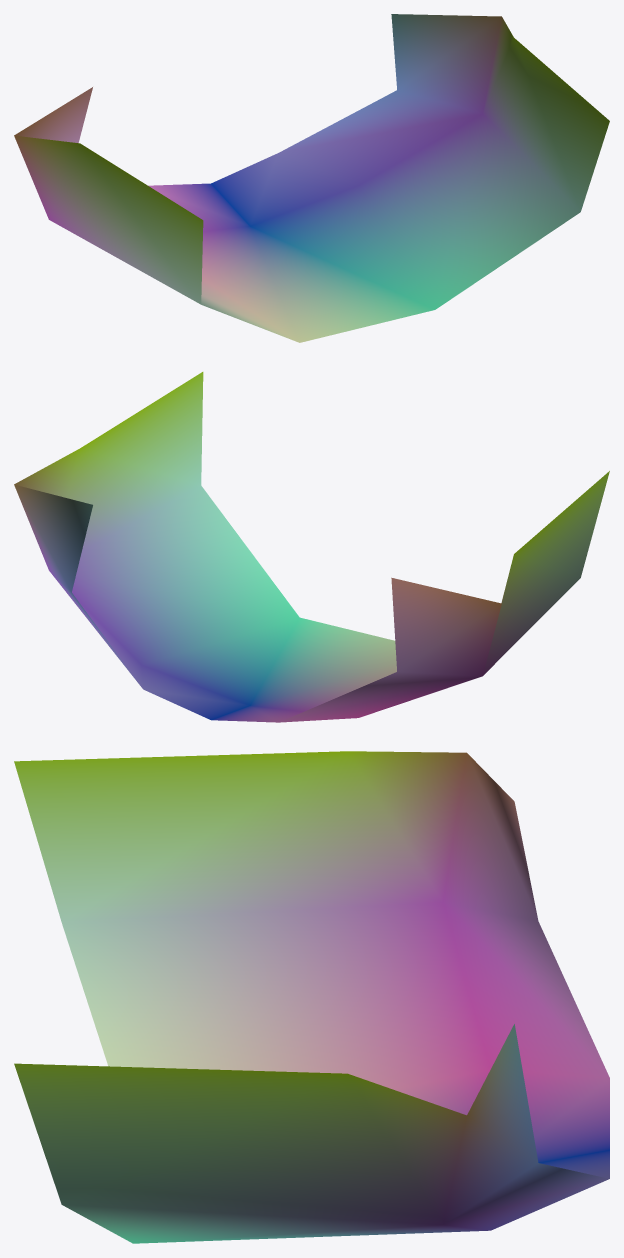
3 renders of one model, top to bottom at view 1: azimuth 30°, elevation 25°; view 2: azimuth 150°, elevation 25°; view 3: azimuth 270°, elevation 25°, orthographic. The views are drawn at different scales.
Visible parts, largest first — view 1: part; view 2: part; view 3: part.
Part boxes in pixels (left/top/right/bottom): part: left=14, top=14, right=609, bottom=342; part: left=14, top=372, right=609, bottom=722; part: left=14, top=751, right=609, bottom=1243.
Size of the model in its own units: 36 by 13 by 25.
